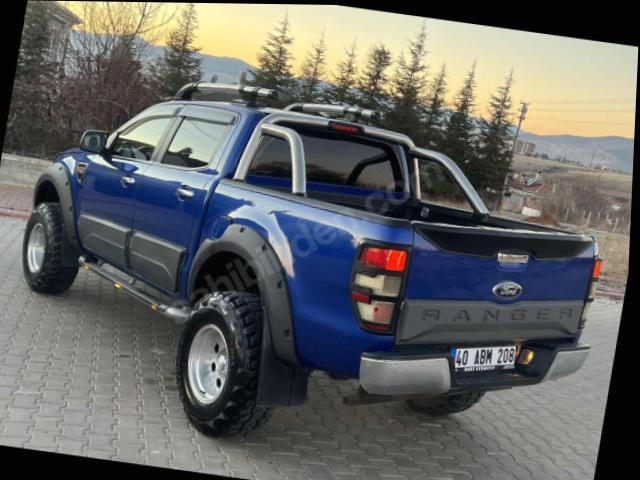plaka: (451, 346, 515, 372)
